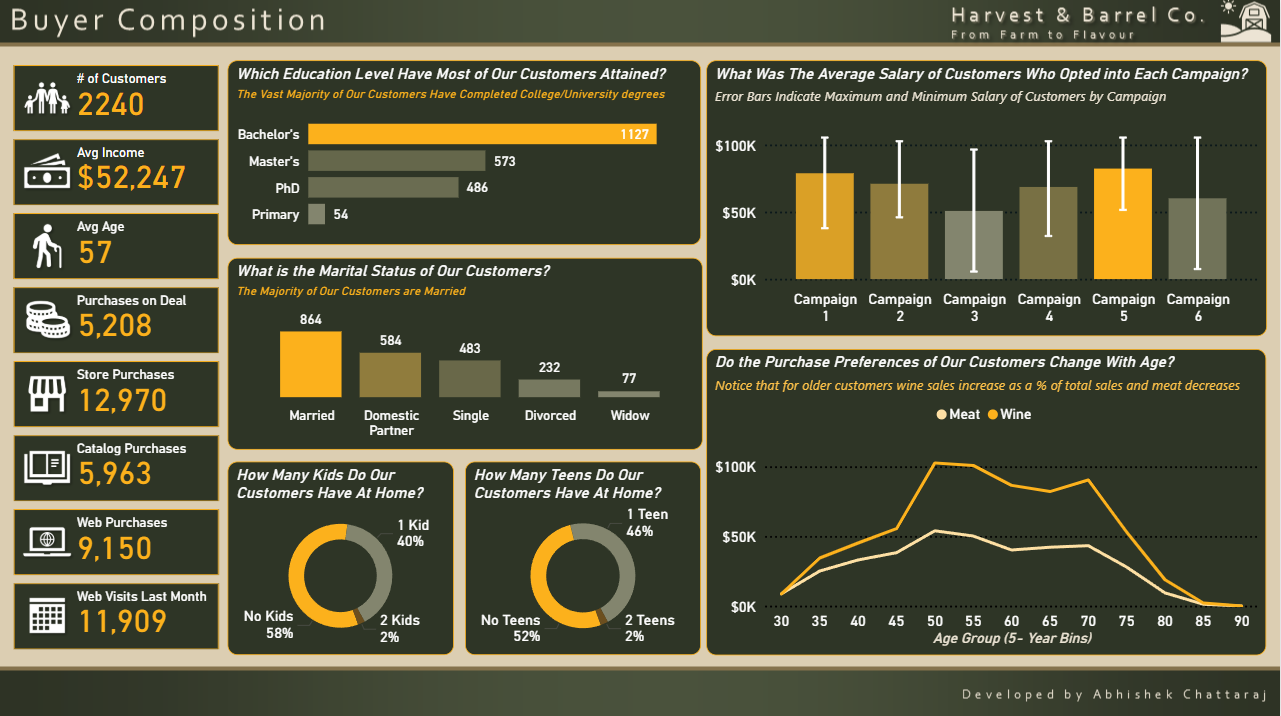

Layout of this report page (visuals, bound fields, positions):
{"tool":"powerbi","page":{"name":"Buyer Composition","canvas":[1280,720],"ordinal":1},"visuals":[{"type":"clusteredBarChart","title":"Which Education Level Have Most of Our Customers Attained?","fields":{"Category":["marketmindz_research_data.Education"],"Y":["CountNonNull(marketmindz_research_data.ID)"]},"box":[227.6,61.2,473.8,185],"z":0},{"type":"clusteredColumnChart","title":"What is the Marital Status of Our Customers?","fields":{"Category":["marketmindz_research_data.Marital_Status"],"Y":["CountNonNull(marketmindz_research_data.ID)"]},"box":[227.1,258.2,475.3,191.8],"z":1000},{"type":"donutChart","title":"How Many Kids Do Our Customers Have At Home?","fields":{"Y":["CountNonNull(marketmindz_research_data.ID)"],"Category":["marketmindz_research_data.Kids_At_Home"]},"box":[227.6,462.5,226.2,193.8],"z":2000},{"type":"donutChart","title":"How Many Teens Do Our Customers Have At Home?","fields":{"Y":["CountNonNull(marketmindz_research_data.ID)"],"Category":["marketmindz_research_data.Teens_At_Home"]},"box":[465.1,462.5,236.2,193.8],"z":3000},{"type":"clusteredColumnChart","title":"What Was The Average Salary of Customers Who Opted into Each Campaign?","fields":{"Y":["Avg(marketmindz_research_data. Income )"],"Category":["Campaign.Campaign"]},"box":[705.8,61.7,561,276.3],"z":4000},{"type":"lineChart","title":"Do the Purchase Preferences of Our Customers Change With Age?","fields":{"Category":["marketmindz_research_data.Age Group"],"Series":["Products.Product"],"Y":["Sum(Products.Total Sales)"]},"box":[706.3,350.1,560,306.2],"z":5000},{"type":"cardVisual","fields":{"Data":["CountNonNull(marketmindz_research_data.ID)","Avg(marketmindz_research_data. Income )","Avg(marketmindz_research_data.Age)","Sum(marketmindz_research_data.Purchased - Deal)","Sum(marketmindz_research_data.Purchased - Store)","Sum(marketmindz_research_data.Purchased - Catalog)","Sum(marketmindz_research_data.Purchased - Web)","Sum(marketmindz_research_data.Web Visits Last Month)"]},"box":[8.8,61.5,215,595],"z":6000}]}

Visuals, with their boxes in screenshot pixels (x1, y1, x2, y2), scaled from the page's 1280x720 canvas onto the 1281x716 screenshot:
"Which Education Level Have Most of Our Customers Attained?" clusteredBarChart: 228 61 702 245
"What is the Marital Status of Our Customers?" clusteredColumnChart: 227 257 703 448
"How Many Kids Do Our Customers Have At Home?" donutChart: 228 460 454 653
"How Many Teens Do Our Customers Have At Home?" donutChart: 465 460 702 653
"What Was The Average Salary of Customers Who Opted into Each Campaign?" clusteredColumnChart: 706 61 1268 336
"Do the Purchase Preferences of Our Customers Change With Age?" lineChart: 707 348 1267 653
cardVisual - CountNonNull(marketmindz_research_data.ID) x Avg(marketmindz_research_data. Income ): 9 61 224 653
